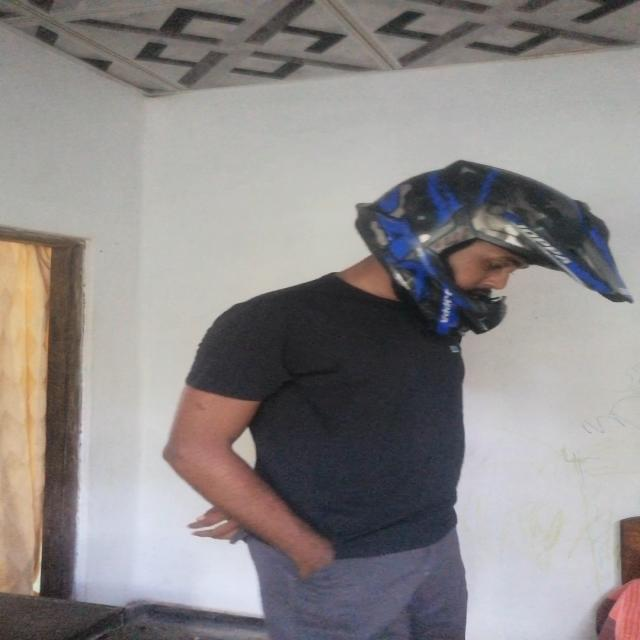Helmet_Wearer: (300, 150, 624, 343)
Person: (163, 167, 532, 638)
